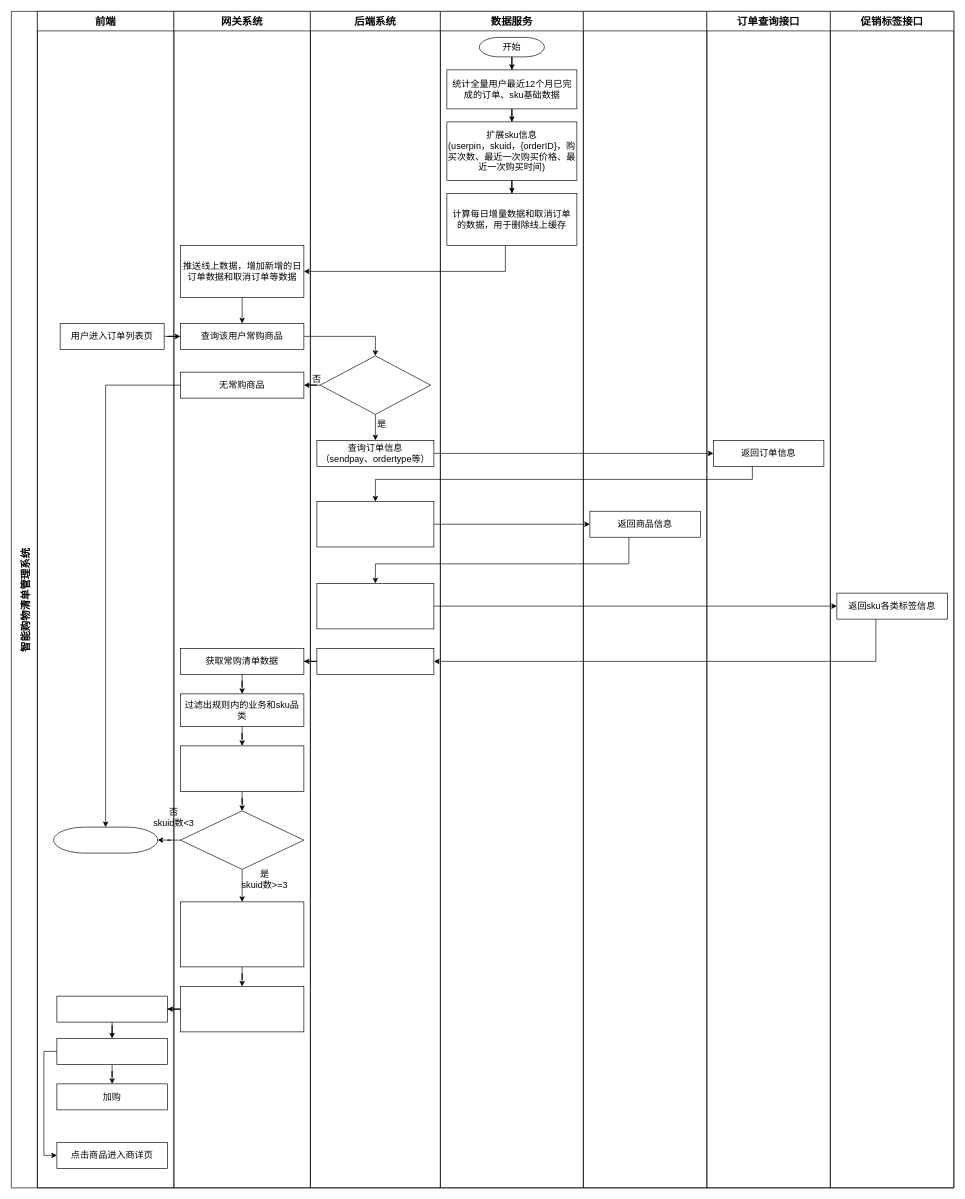
Image size: 965x1199. Some labels were removed from this diagram. Each missing label, with the box of its shape:
不展示常购入口: (53, 826, 158, 853)
剔除无货和下架的sku，更新商品列表: (180, 745, 304, 791)
商品信息接口: (583, 11, 707, 1188)
商品分堆 1、降价商品：sku现价小于原订单价 2、常购商品：单个sku购买次数>=1次: (180, 901, 304, 967)
商品排序 次数>促销>日期 （由近到远）: (180, 986, 304, 1032)
展示常购入口: (56, 995, 167, 1022)
是否存在常购商品？: (319, 355, 431, 414)
是否展示常购入口？: (180, 810, 304, 869)
查询sku库存是否有货、实时促销价、促销类型和利益点: (316, 583, 434, 629)
查询商品信息 （商品图片、名称、品类、上下架状态）: (316, 501, 434, 547)
返回常购商品信息: (316, 648, 434, 674)
进入常购清单落地页: (56, 1038, 167, 1064)
